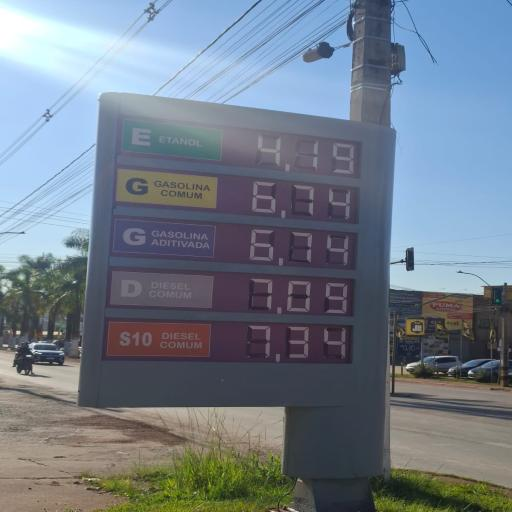ETANOL: (126, 118, 220, 159)
GASOLINA AD: (109, 224, 224, 256)
GASOLINA C: (119, 172, 230, 208)
S10: (106, 324, 216, 360)
S500: (108, 275, 222, 304)
placa: (88, 102, 372, 390)
preco: (243, 128, 368, 174), (236, 322, 358, 366), (245, 178, 363, 222), (244, 277, 355, 314), (245, 230, 359, 266)
